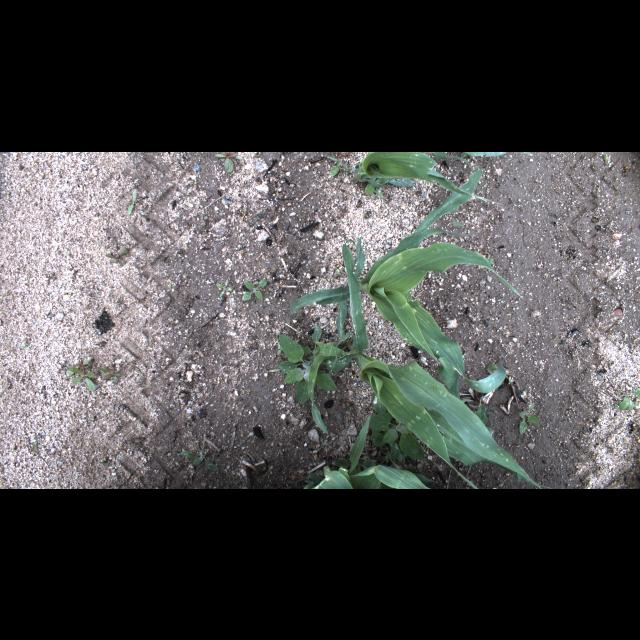crop: (334, 234, 548, 488), (355, 193, 517, 399), (304, 416, 430, 488), (350, 152, 500, 204), (286, 285, 348, 311), (310, 403, 330, 437), (461, 164, 481, 188), (462, 152, 508, 158)
weed: (278, 328, 336, 404), (365, 401, 427, 462), (177, 441, 221, 469), (517, 404, 545, 436), (70, 356, 96, 390), (211, 152, 245, 176), (363, 178, 387, 202), (240, 279, 266, 301), (107, 242, 131, 264), (617, 388, 639, 412), (30, 436, 46, 464), (122, 190, 138, 214), (104, 364, 120, 384), (215, 280, 232, 298), (326, 162, 344, 178), (22, 343, 38, 352), (98, 458, 110, 468)
